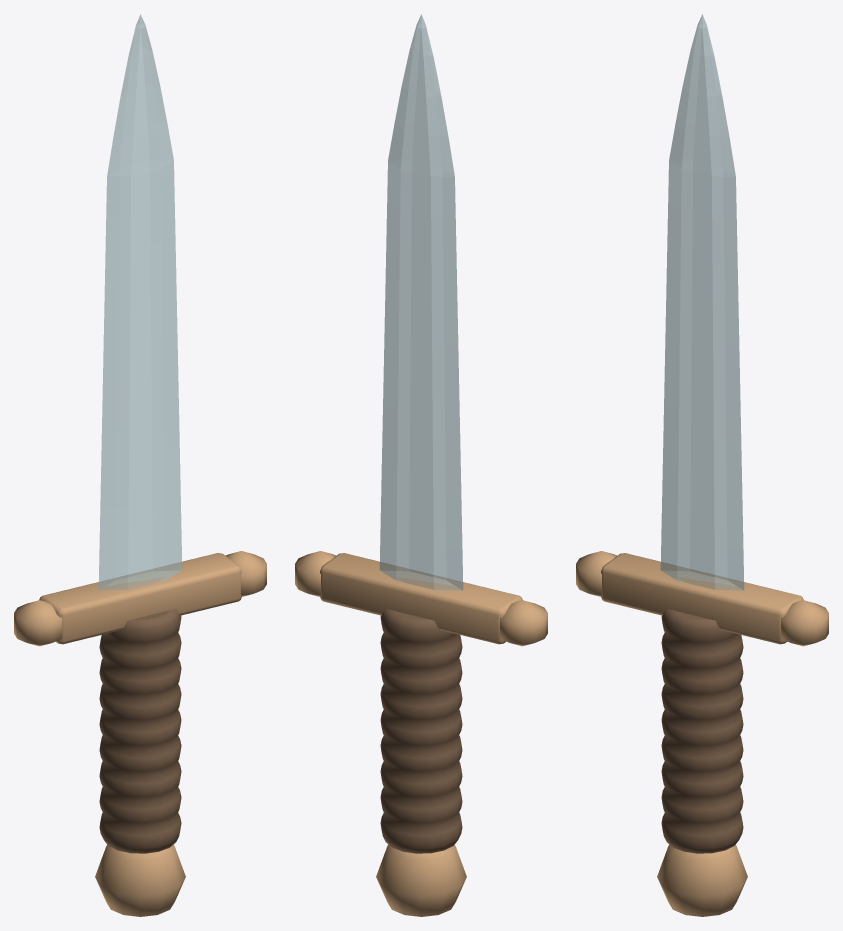
The model's file is dagger_glass.glb.
3 renders of one model, left to right at view 1: azimuth 30°, elevation 25°; view 2: azimuth 150°, elevation 25°; view 3: azimuth 330°, elevation 25°, orthographic.
Visible parts, largest first — view 1: dagger_glass_blade, dagger_glass_grip, dagger_glass_guard, dagger_glass_pommel, dagger_glass_quillon-1, dagger_glass_quillon1; view 2: dagger_glass_blade, dagger_glass_grip, dagger_glass_guard, dagger_glass_pommel, dagger_glass_quillon-1, dagger_glass_quillon1; view 3: dagger_glass_blade, dagger_glass_grip, dagger_glass_guard, dagger_glass_pommel, dagger_glass_quillon1, dagger_glass_quillon-1.
Boxes of the visible parts, x1,y1,x2,y2 form: dagger_glass_blade: (98, 14, 182, 590); dagger_glass_grip: (99, 608, 181, 853); dagger_glass_guard: (39, 553, 241, 644); dagger_glass_pommel: (95, 844, 185, 916); dagger_glass_quillon-1: (14, 600, 61, 646); dagger_glass_quillon1: (226, 551, 266, 596); dagger_glass_blade: (379, 14, 463, 590); dagger_glass_grip: (380, 608, 462, 853); dagger_glass_guard: (320, 553, 522, 644); dagger_glass_pommel: (376, 844, 466, 916); dagger_glass_quillon-1: (500, 600, 547, 646); dagger_glass_quillon1: (295, 551, 335, 596); dagger_glass_blade: (660, 14, 744, 590); dagger_glass_grip: (661, 608, 743, 853); dagger_glass_guard: (601, 553, 803, 644); dagger_glass_pommel: (657, 844, 747, 916); dagger_glass_quillon1: (781, 600, 828, 646); dagger_glass_quillon-1: (576, 551, 616, 596).
Bounding box in the file's own units: 0.1 × 0.35 × 0.032.
